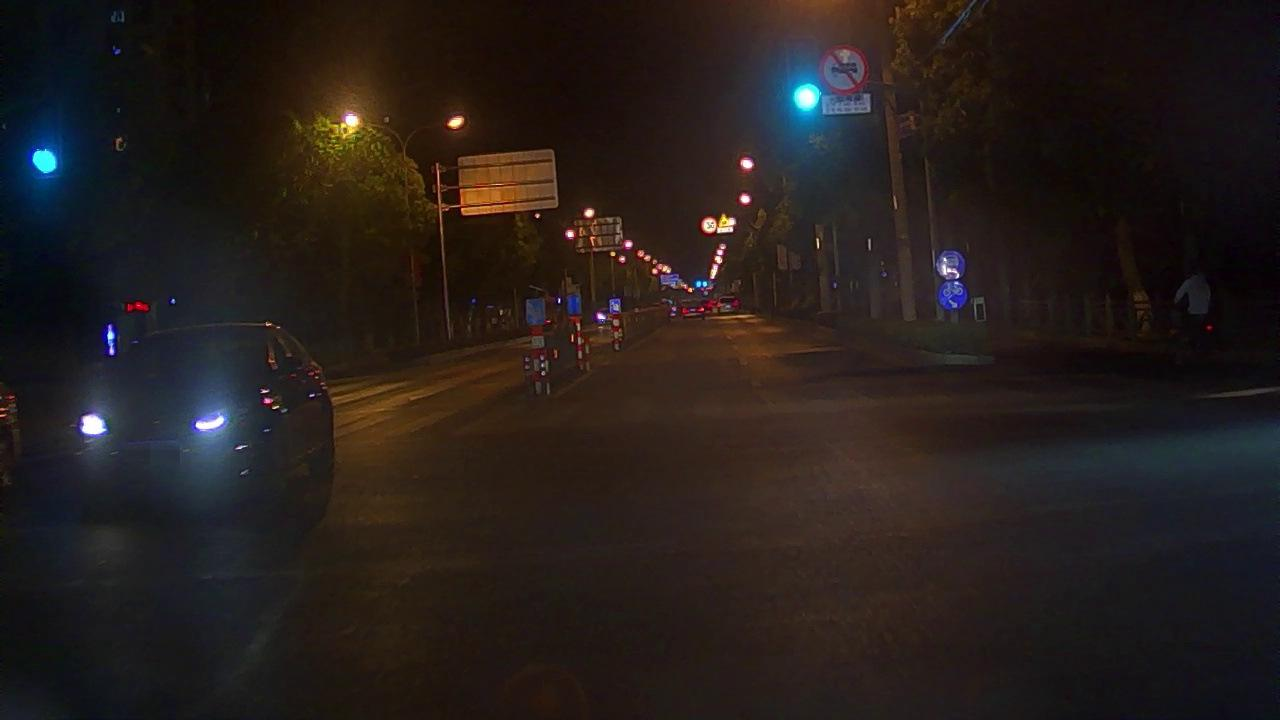traffic_light: (23, 139, 67, 184), (788, 74, 825, 120)
